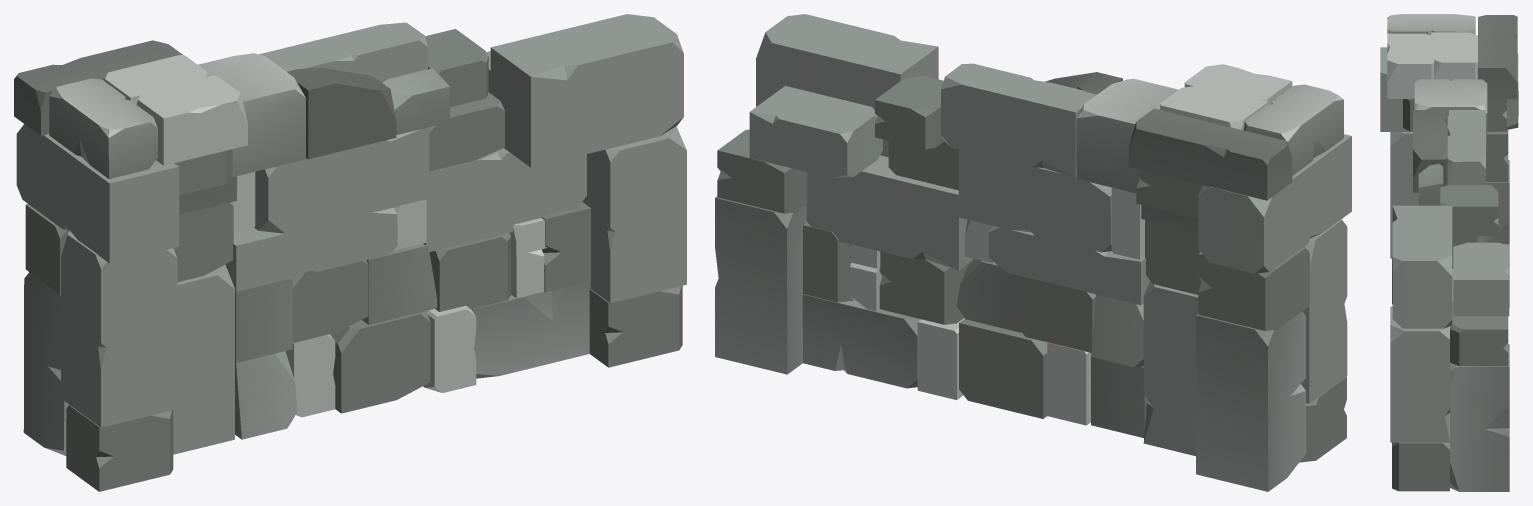
File: ZLP_Build_D_42.FBX
3 views of the same model, side by side, from view 1: azimuth 30°, elevation 25°; view 2: azimuth 150°, elevation 25°; view 3: azimuth 270°, elevation 25° (orthographic). The views are drawn at different scales.
Parts seen in each view (by area): view 1: ZLP_Build_D_42; view 2: ZLP_Build_D_42; view 3: ZLP_Build_D_42.
Part boxes in pixels (box(x1,y1,x2,y2)): ZLP_Build_D_42: box(14, 14, 686, 491); ZLP_Build_D_42: box(715, 14, 1351, 491); ZLP_Build_D_42: box(1380, 14, 1518, 491).
Size of the model in its own units: 324 by 189 by 88.61.
